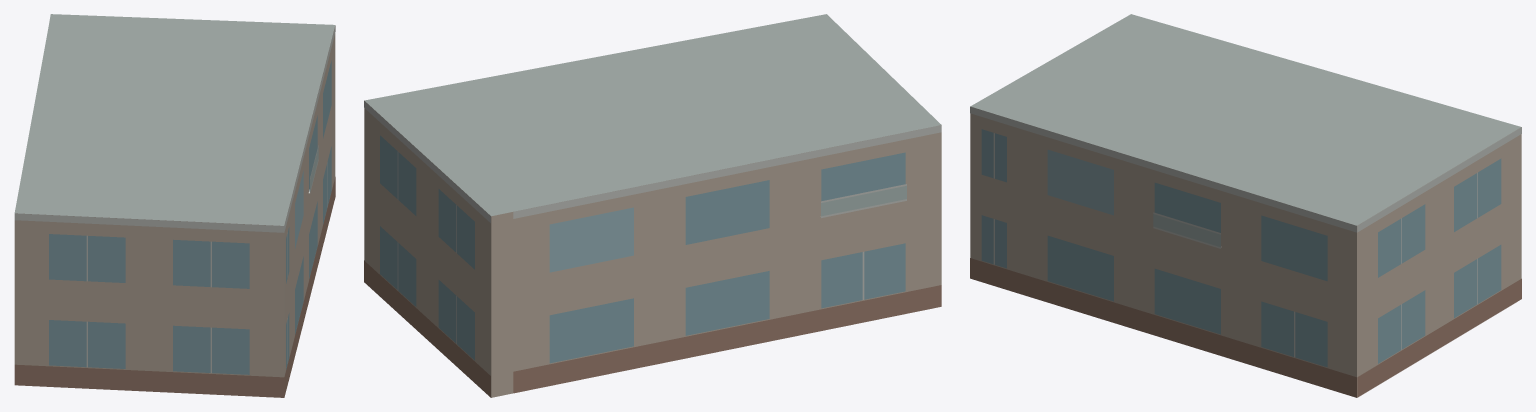
File: survey-upis-32528540.glb
3 views of the same model, side by side, from view 1: azimuth 30°, elevation 25°; view 2: azimuth 150°, elevation 25°; view 3: azimuth 270°, elevation 25° (orthographic). The views are drawn at different scales.
Parts seen in each view (by area): view 1: survey-upis-32528540.tmp; view 2: survey-upis-32528540.tmp; view 3: survey-upis-32528540.tmp.
Part boxes in pixels (x1,y1,x2,y2): survey-upis-32528540.tmp: [14, 14, 335, 397]; survey-upis-32528540.tmp: [364, 14, 941, 397]; survey-upis-32528540.tmp: [970, 14, 1521, 397].
Bounding box in the file's own units: 16.12 × 6.1 × 17.73.
